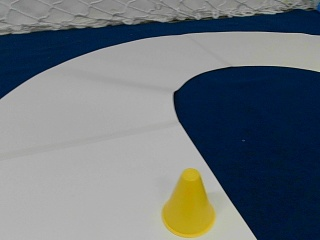cone: (162, 170, 214, 236)
